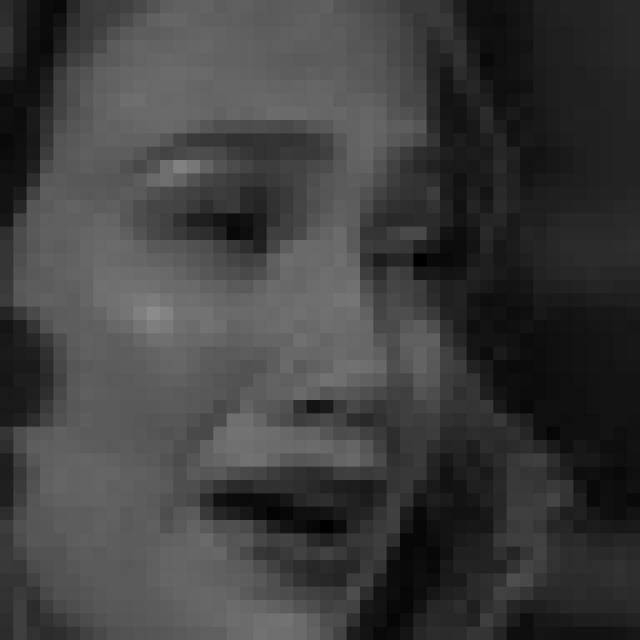sad: (118, 124, 446, 592)
